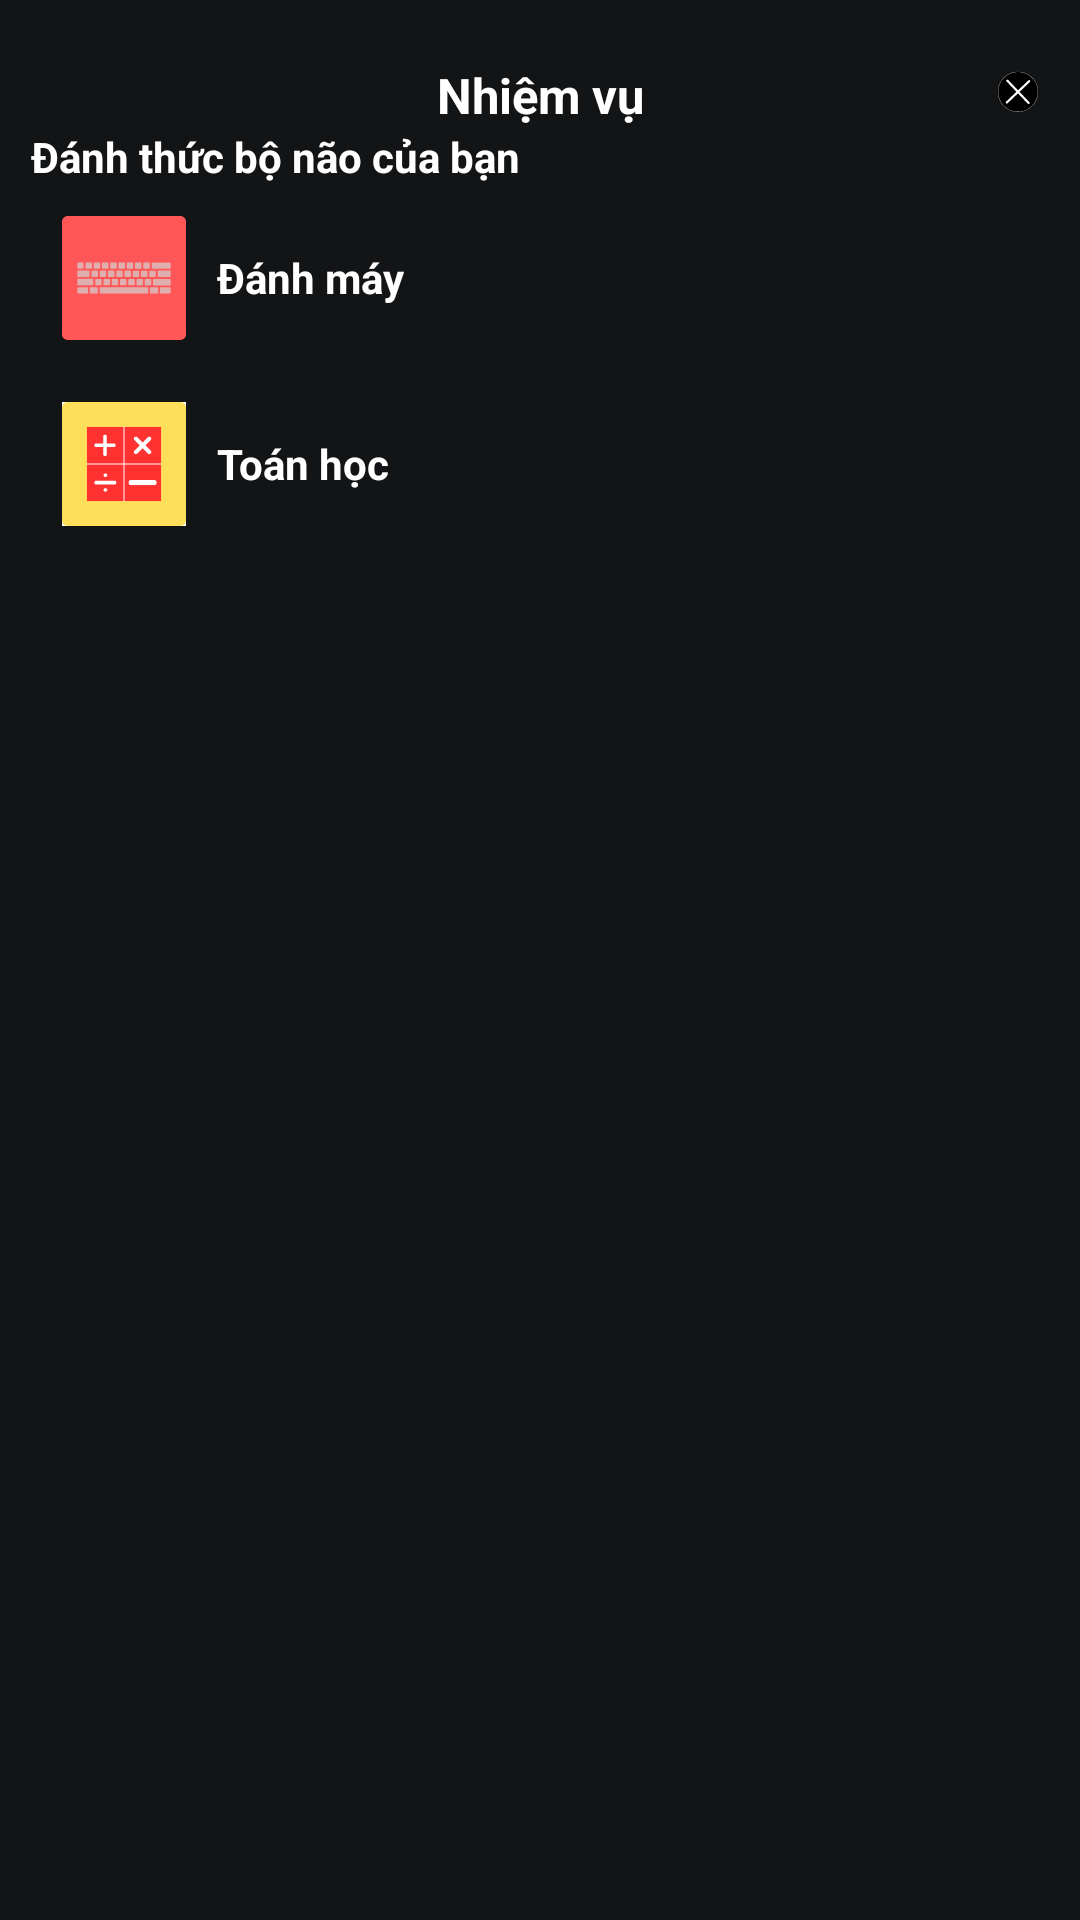

Screen size 1080px×1920px. Icon name, then its box in pixels as (x1, y1, x2, y2):
exit: (998, 71, 1038, 112)
math: (62, 402, 186, 526)
typing: (62, 216, 186, 340)
